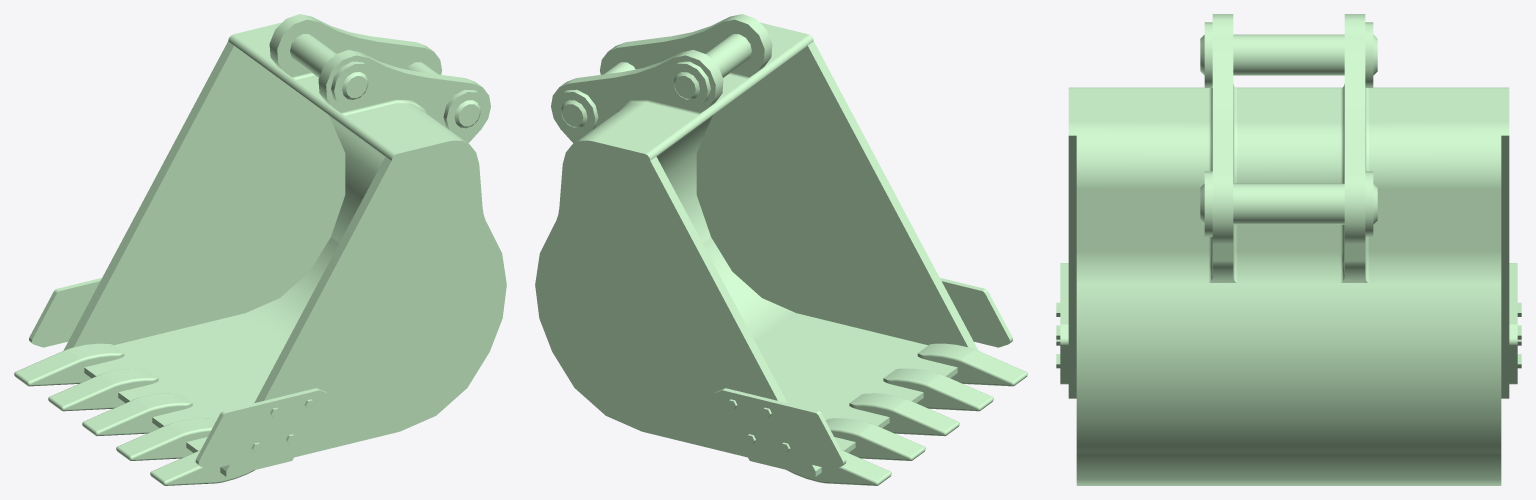
The model's file is bucket.glb.
3 views of the same model, side by side, from view 1: azimuth 30°, elevation 25°; view 2: azimuth 150°, elevation 25°; view 3: azimuth 270°, elevation 25° (orthographic). The views are drawn at different scales.
Visible parts, largest first — view 1: Bucket, Solid 3, Solid 4, Solid5.001, Solid4.001, Solid2.001, Solid3.001, BucketFootPin, Solid1.001, Solid4, Solid5, Solid3 (+2 smaller); view 2: Bucket, Solid 4, Solid 3, Solid1.001, Solid2.001, Solid3.001, Solid4.001, BucketFootPin, Solid5.001, Solid2, Solid1, Solid3 (+2 smaller); view 3: Bucket, BucketFootPin, BucketHLinkPin, Solid 4, Solid 3.
Boxes of the visible parts, box(x1,y1,x2,y2) form: Bucket: box(63, 14, 506, 476); Solid 3: box(195, 388, 329, 469); Solid 4: box(29, 278, 101, 347); Solid5.001: box(14, 348, 84, 386); Solid4.001: box(48, 373, 118, 411); Solid2.001: box(116, 423, 186, 460); Solid3.001: box(82, 398, 152, 436); BucketFootPin: box(290, 34, 368, 99); Solid1.001: box(150, 450, 220, 485); Solid4: box(104, 368, 158, 406); Solid5: box(70, 343, 124, 381); Solid3: box(138, 393, 192, 430); Bucket: box(535, 14, 978, 476); Solid 4: box(712, 388, 846, 469); Solid 3: box(940, 278, 1012, 347); Solid1.001: box(957, 348, 1027, 386); Solid2.001: box(923, 373, 993, 411); Solid3.001: box(889, 398, 959, 436); Solid4.001: box(855, 423, 925, 460); BucketFootPin: box(673, 34, 751, 99); Solid5.001: box(821, 450, 891, 485); Solid2: box(883, 368, 937, 406); Solid1: box(917, 343, 971, 381); Solid3: box(849, 393, 903, 430); Bucket: box(1068, 14, 1509, 485); BucketFootPin: box(1200, 34, 1377, 75); BucketHLinkPin: box(1200, 183, 1377, 224); Solid 4: box(1509, 263, 1521, 384); Solid 3: box(1056, 263, 1068, 384).
Size of the model in its own units: 1.41 by 1.26 by 1.13.
